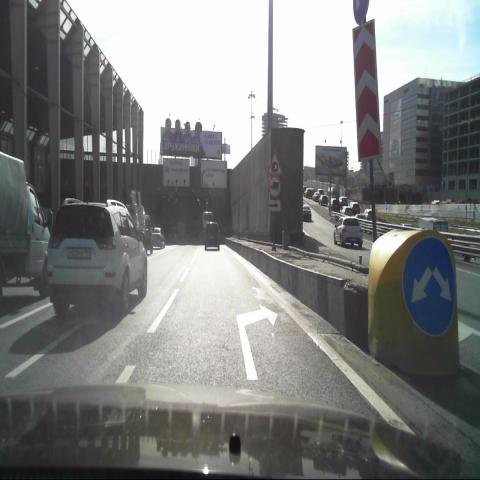1_31: (268, 152, 282, 176)
4_2_3: (400, 236, 456, 339)
